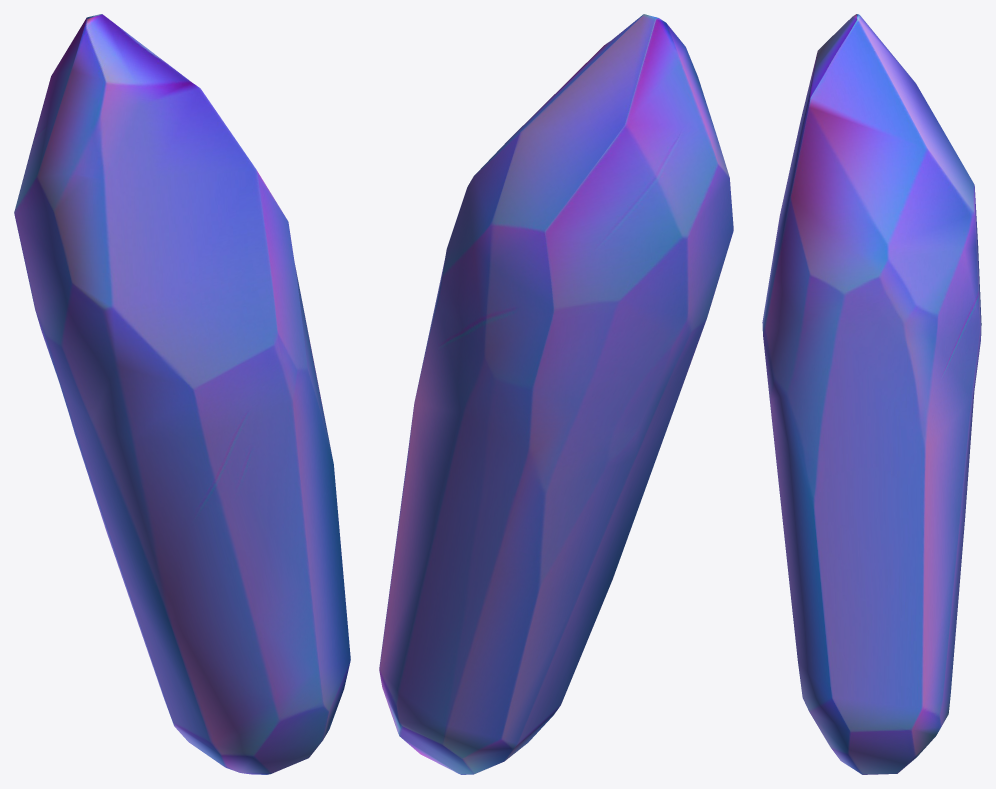
Rendered from MagicStoneSecond1.FBX.
3 views of the same model, side by side, from view 1: azimuth 30°, elevation 25°; view 2: azimuth 150°, elevation 25°; view 3: azimuth 270°, elevation 25° (orthographic). The views are drawn at different scales.
Parts seen in each view (by area): view 1: Obj3d66-7719707-6-503; view 2: Obj3d66-7719707-6-503; view 3: Obj3d66-7719707-6-503.
Boxes of the visible parts, <box> form: Obj3d66-7719707-6-503: <box>14,14,350,774</box>; Obj3d66-7719707-6-503: <box>379,14,733,774</box>; Obj3d66-7719707-6-503: <box>762,14,981,774</box>.
Bounding box in the file's own units: 637 × 1587 × 464.
Materials: 1 (1 with a texture image).
